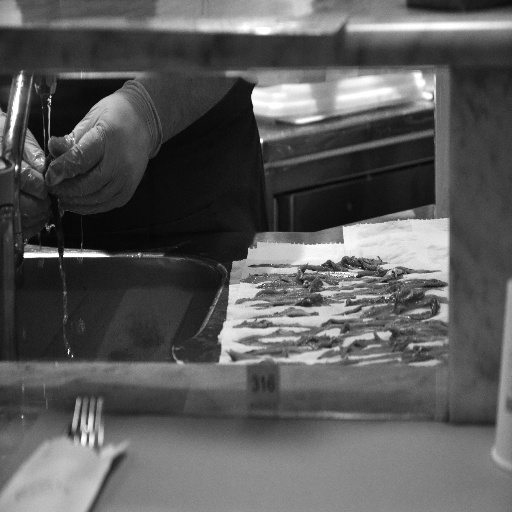hand: (29, 82, 152, 218), (0, 107, 47, 241)
